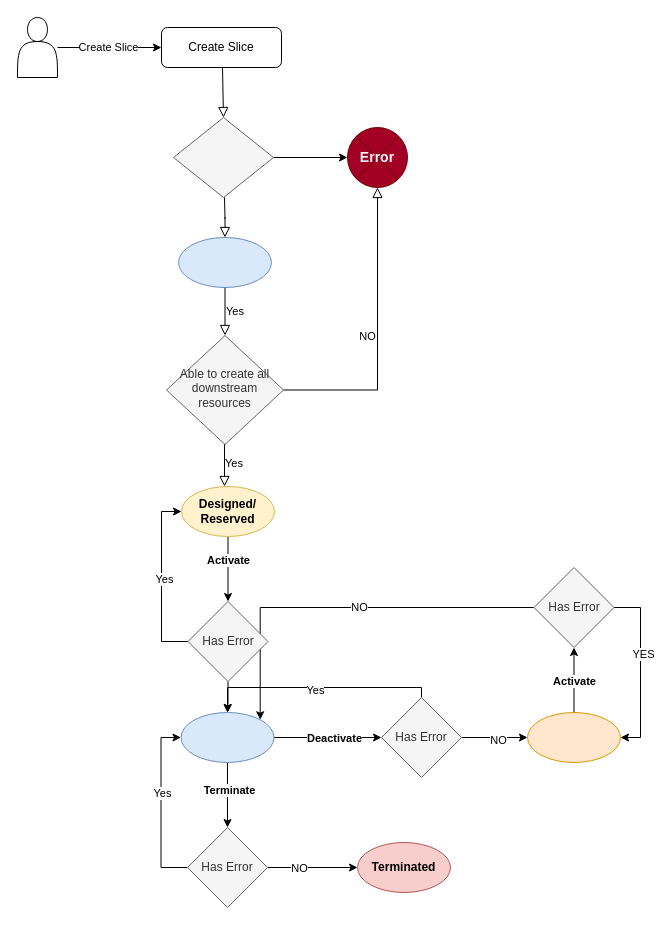
Image size: 671x925. Some labels were removed from this diagram. Each missing label, with the box of its shape:
Activated: (180, 712, 274, 762)
Deactivated: (526, 712, 620, 762)
Feasibility Checked: (178, 236, 272, 288)
Is Feasible: (172, 116, 274, 198)
